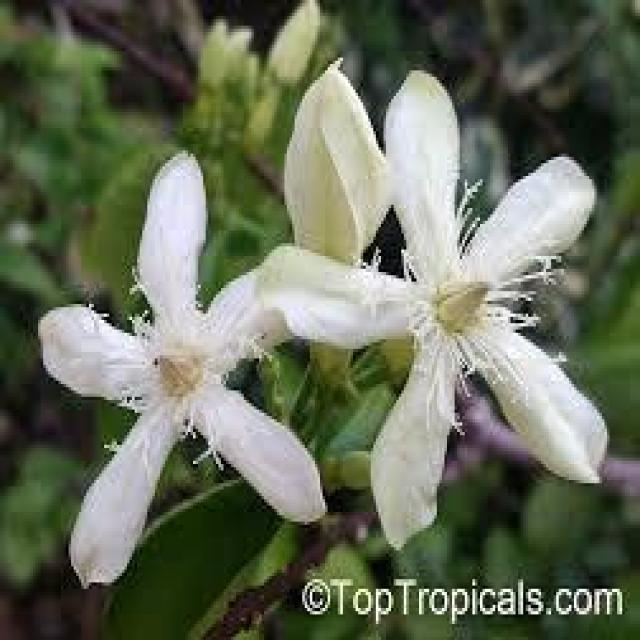organic waste: (279, 53, 612, 539), (29, 147, 344, 579)
